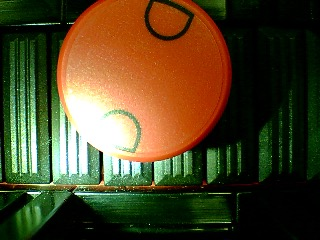MIPO2: (57, 1, 232, 162)
